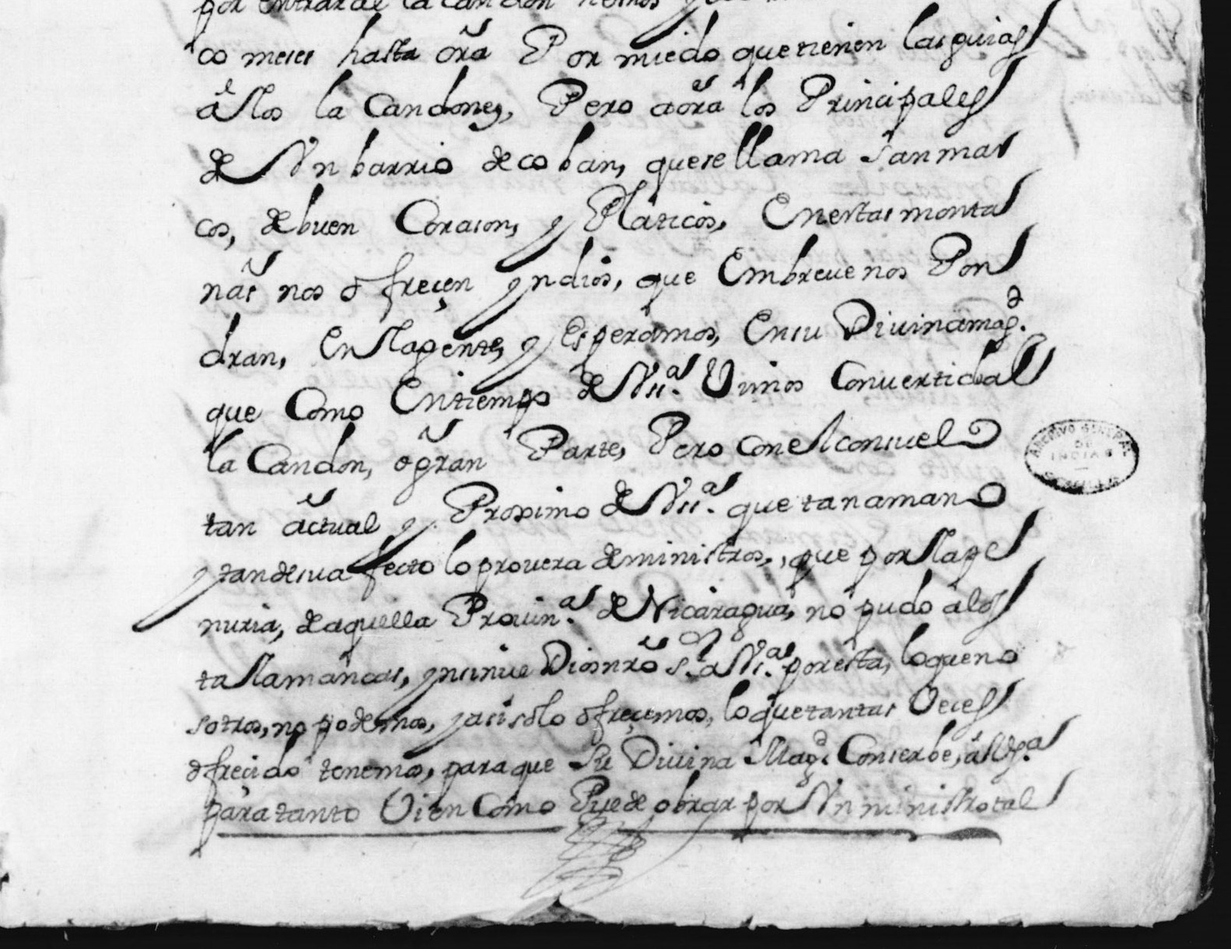lacandon: (315, 65, 502, 131), (207, 421, 369, 474)
